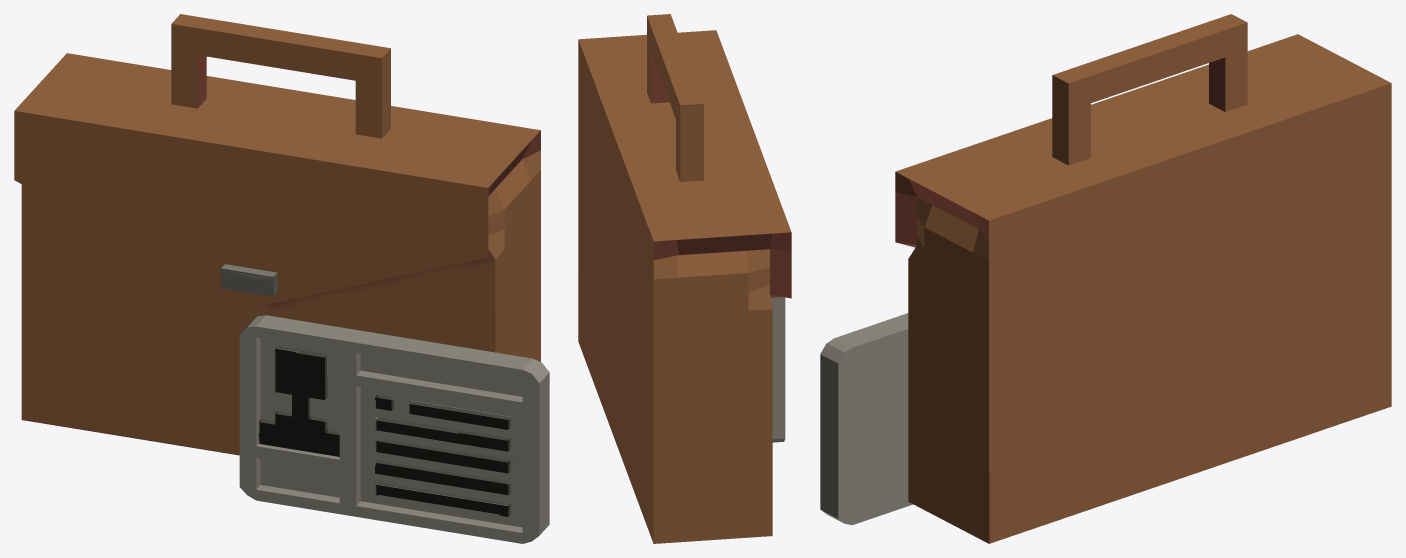
File: Hex_Experience_WIP.glb
3 renders of one model, left to right at view 1: azimuth 30°, elevation 25°; view 2: azimuth 150°, elevation 25°; view 3: azimuth 270°, elevation 25°, orthographic. The views are drawn at different scales.
Parts seen in each view (by area): view 1: Cube.001, Cube; view 2: Cube.001, Cube; view 3: Cube.001, Cube.
Part boxes in pixels (box(x1,y1,x2,y2)): Cube.001: box(14, 14, 540, 455); Cube: box(239, 315, 549, 543); Cube.001: box(578, 14, 791, 543); Cube: box(770, 297, 785, 442); Cube.001: box(895, 14, 1391, 543); Cube: box(820, 313, 912, 525).
Bounding box in the file's own units: 2.75 × 2.91 × 3.56.
2 materials, 2 textured.
